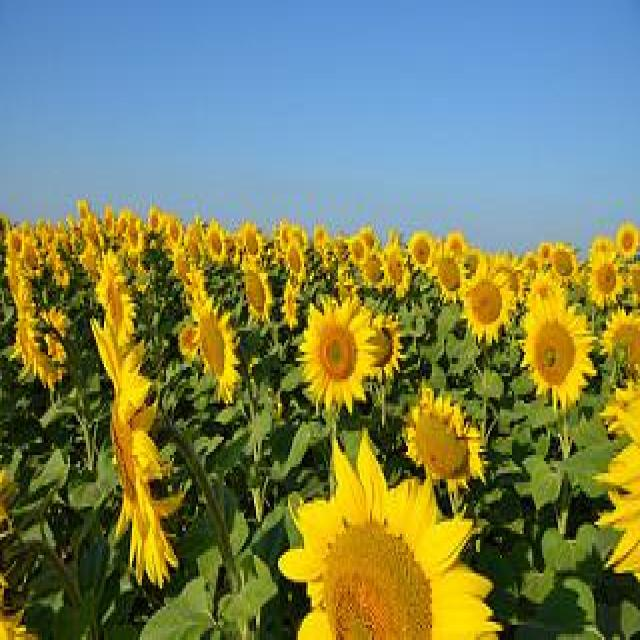sunflower: (278, 430, 502, 640), (91, 326, 175, 584), (297, 292, 375, 414), (592, 382, 640, 576), (403, 381, 485, 488), (520, 298, 598, 408), (190, 290, 236, 405), (9, 292, 61, 386), (95, 249, 135, 346), (461, 267, 513, 340), (599, 306, 640, 373), (586, 248, 628, 308), (363, 313, 401, 379), (241, 261, 273, 327), (428, 245, 465, 301), (384, 247, 414, 293), (527, 269, 565, 301), (407, 232, 433, 272), (204, 221, 226, 264), (360, 249, 384, 288), (552, 243, 577, 279), (281, 283, 301, 327), (242, 223, 264, 262), (284, 240, 304, 279), (175, 245, 193, 282), (179, 322, 198, 357), (617, 224, 637, 256), (126, 224, 142, 253), (168, 218, 185, 245), (351, 236, 367, 264)
